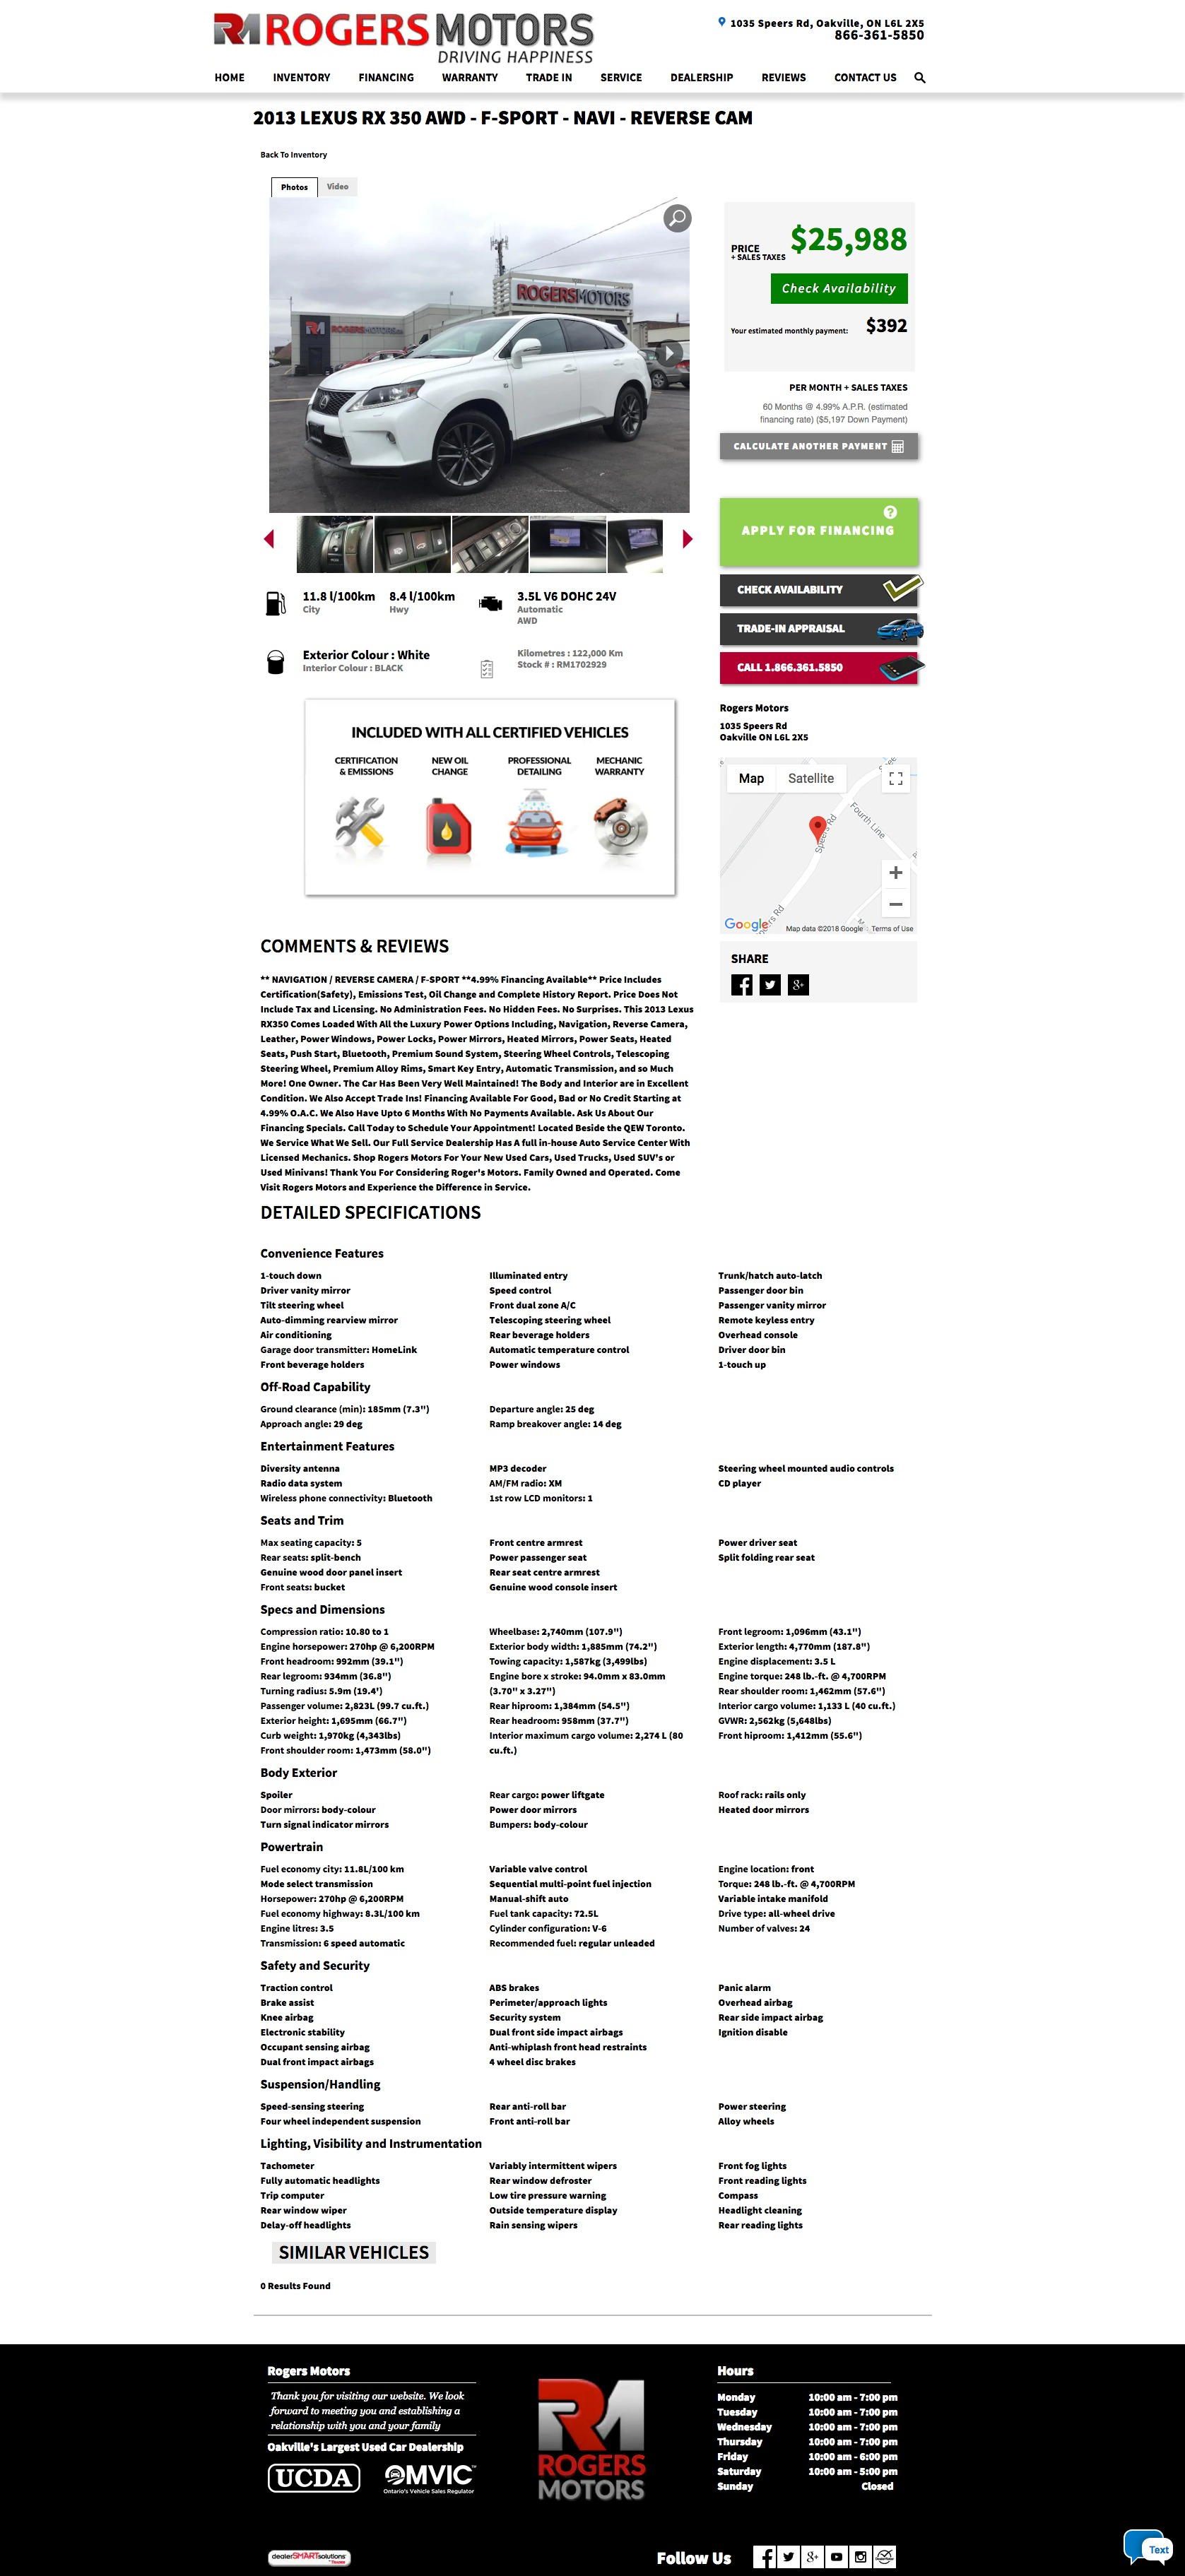car: (682, 529, 694, 550)
